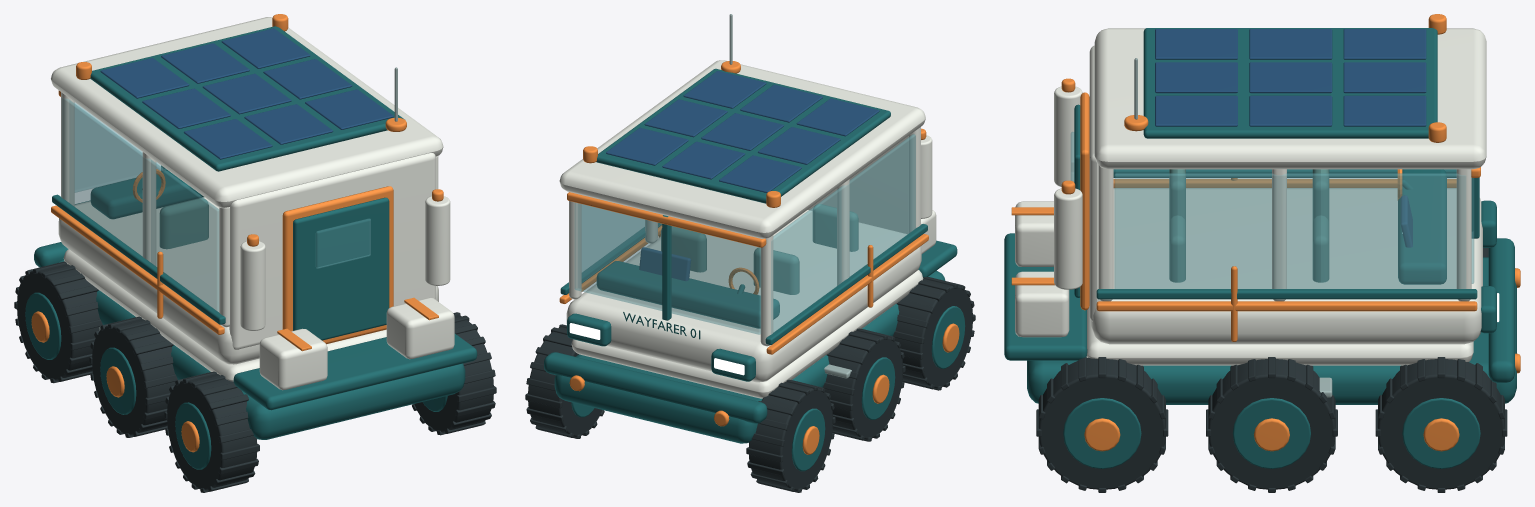
The model's file is Mars_Rover.glb.
3 renders of one model, left to right at view 1: azimuth 30°, elevation 25°; view 2: azimuth 150°, elevation 25°; view 3: azimuth 270°, elevation 25°, orthographic. The views are drawn at different scales.
Parts seen in each view (by area): view 1: Chassis_Geometry, Wheel_RL_Geometry, Wheel_ML_Geometry, Wheel_FL_Geometry, Wheel_RR_Geometry; view 2: Chassis_Geometry, Wheel_FL_Geometry, Wheel_RL_Geometry, Wheel_ML_Geometry, Wheel_FR_Geometry; view 3: Chassis_Geometry, Wheel_RR_Geometry, Wheel_FR_Geometry, Wheel_MR_Geometry.
Part boxes in pixels (bbox=[...]): Chassis_Geometry: bbox=[34, 14, 477, 439]; Wheel_RL_Geometry: bbox=[164, 371, 259, 492]; Wheel_ML_Geometry: bbox=[89, 316, 177, 437]; Wheel_FL_Geometry: bbox=[14, 261, 102, 383]; Wheel_RR_Geometry: bbox=[412, 312, 496, 435]; Chassis_Geometry: bbox=[544, 14, 957, 443]; Wheel_FL_Geometry: bbox=[746, 379, 835, 492]; Wheel_RL_Geometry: bbox=[893, 277, 975, 390]; Wheel_ML_Geometry: bbox=[823, 328, 905, 441]; Wheel_FR_Geometry: bbox=[525, 324, 604, 438]; Chassis_Geometry: bbox=[1004, 14, 1520, 404]; Wheel_RR_Geometry: bbox=[1036, 357, 1168, 492]; Wheel_FR_Geometry: bbox=[1375, 357, 1507, 492]; Wheel_MR_Geometry: bbox=[1206, 357, 1337, 492].
Bounding box in the file's own units: 4.92 × 5.91 × 6.85.
